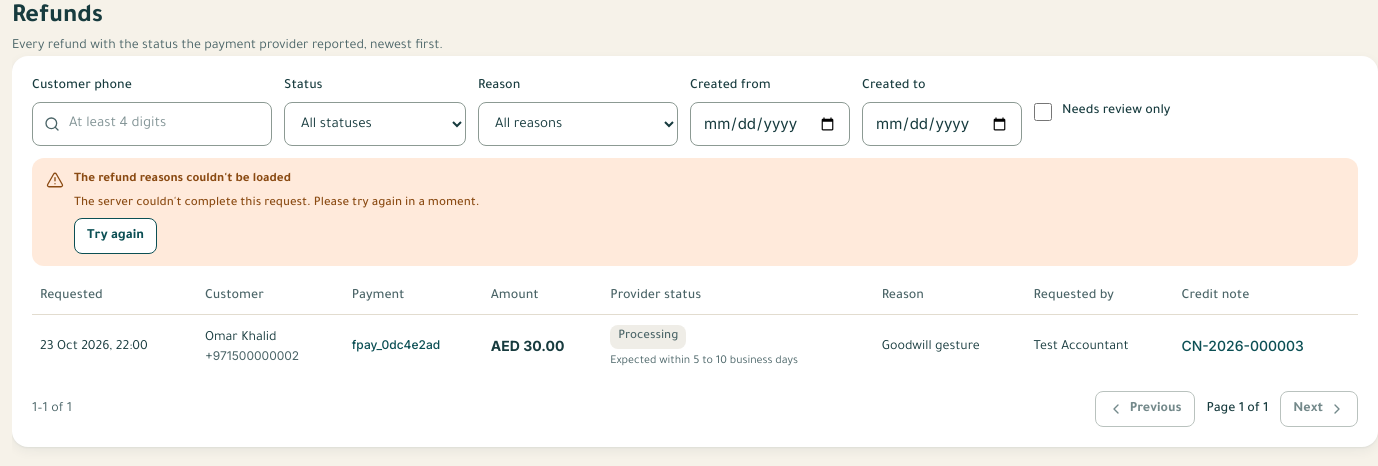
Test: A09 refunds list › says when the reasons can't be loaded and loads them again on request, while the list still shows
Expected: the text "The refund reasons couldn't be loaded" is shown, [74,173,291,186]
Expected: the link "CN-2026-000003" is shown, [1181,342,1304,356]
Click the button "Try again": point(116, 236) [74,218,157,254]
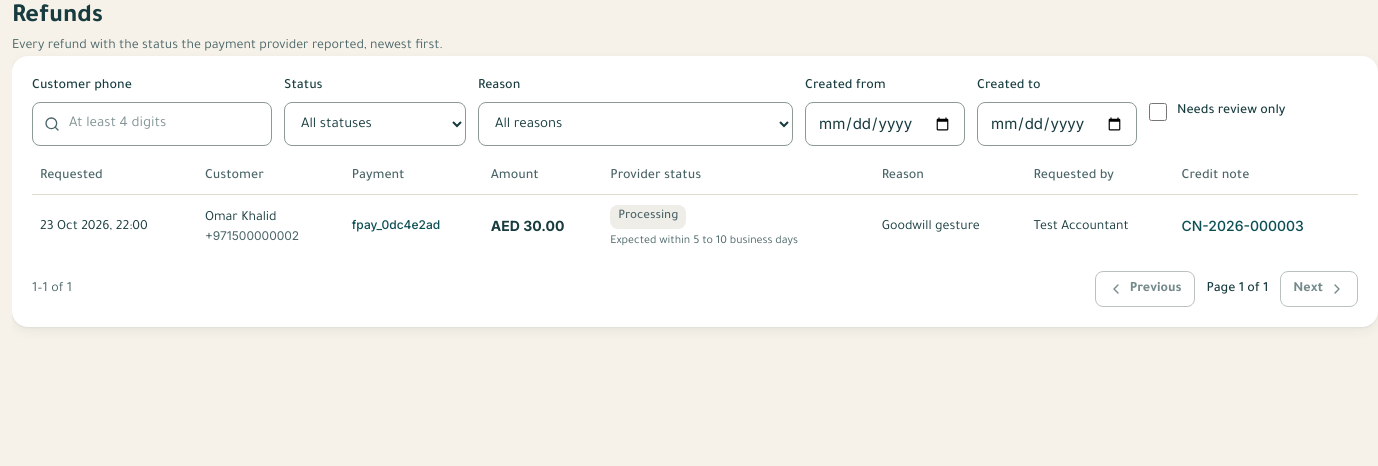
Expected: the text "The refund reasons couldn't be loaded" is gone
